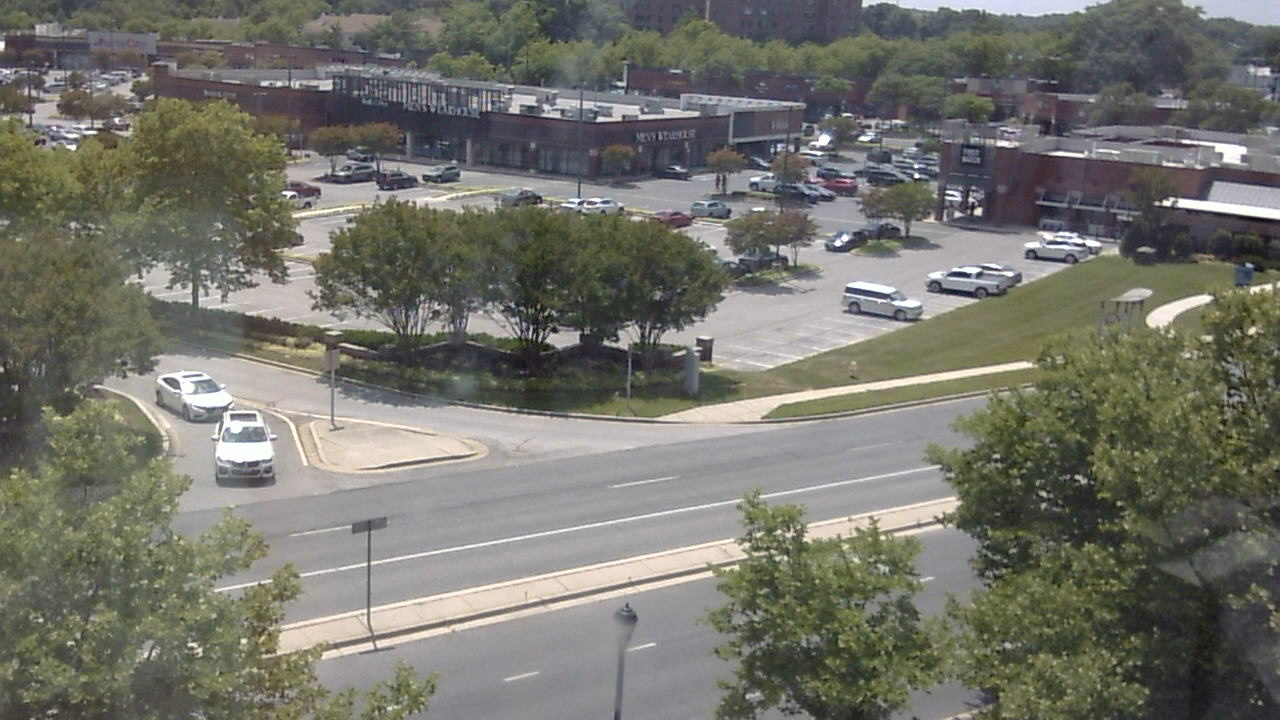Car: (222, 411, 279, 488), (159, 371, 235, 424)
